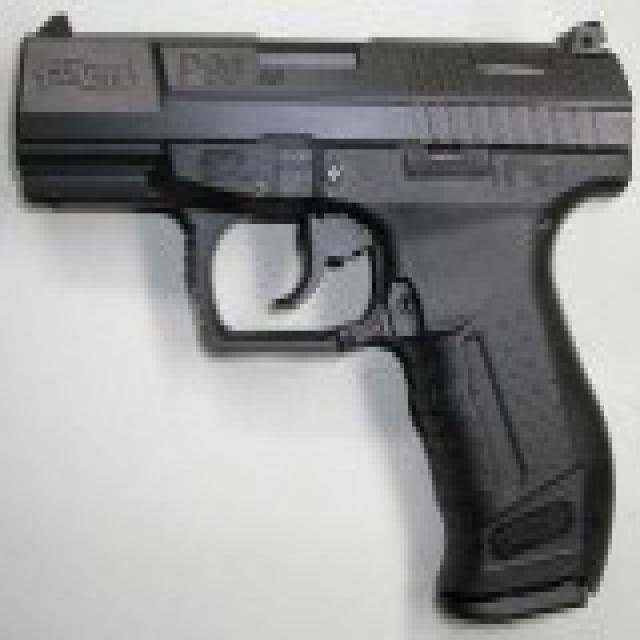Gun: (19, 17, 636, 592)
